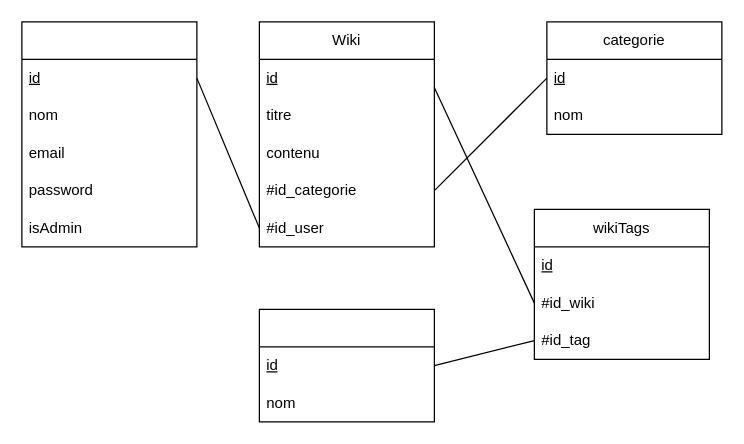
Some shapes in this 744 by 444 pixel diagram are drawn without their labels. The shapes that lost their labels are listed below. From the top down, each one's box as (x1, y1, x2, y2) in pixels, then its label:
(21, 21, 197, 247): User
(258, 308, 434, 422): Tag
